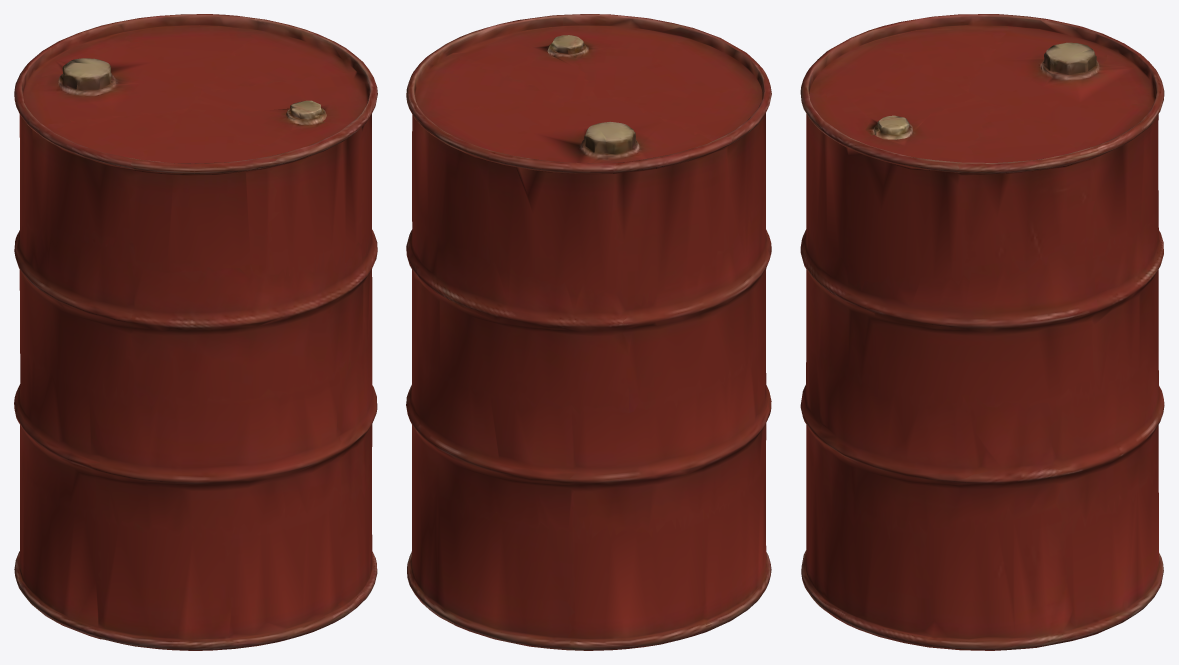
File: barrel.lod1.glb
3 views of the same model, side by side, from view 1: azimuth 30°, elevation 25°; view 2: azimuth 150°, elevation 25°; view 3: azimuth 270°, elevation 25° (orthographic).
Visible parts, largest first — view 1: tripo_node_22df79fb-1a74-4e39-82aa-20d682700ef2; view 2: tripo_node_22df79fb-1a74-4e39-82aa-20d682700ef2; view 3: tripo_node_22df79fb-1a74-4e39-82aa-20d682700ef2.
Boxes of the visible parts, x1=… form: tripo_node_22df79fb-1a74-4e39-82aa-20d682700ef2: x1=14, y1=14, x2=377, y2=650; tripo_node_22df79fb-1a74-4e39-82aa-20d682700ef2: x1=406, y1=14, x2=771, y2=650; tripo_node_22df79fb-1a74-4e39-82aa-20d682700ef2: x1=800, y1=14, x2=1164, y2=650.
Size of the model in its own units: 0.5895 by 0.8797 by 0.5889.
1 material, 1 textured.
